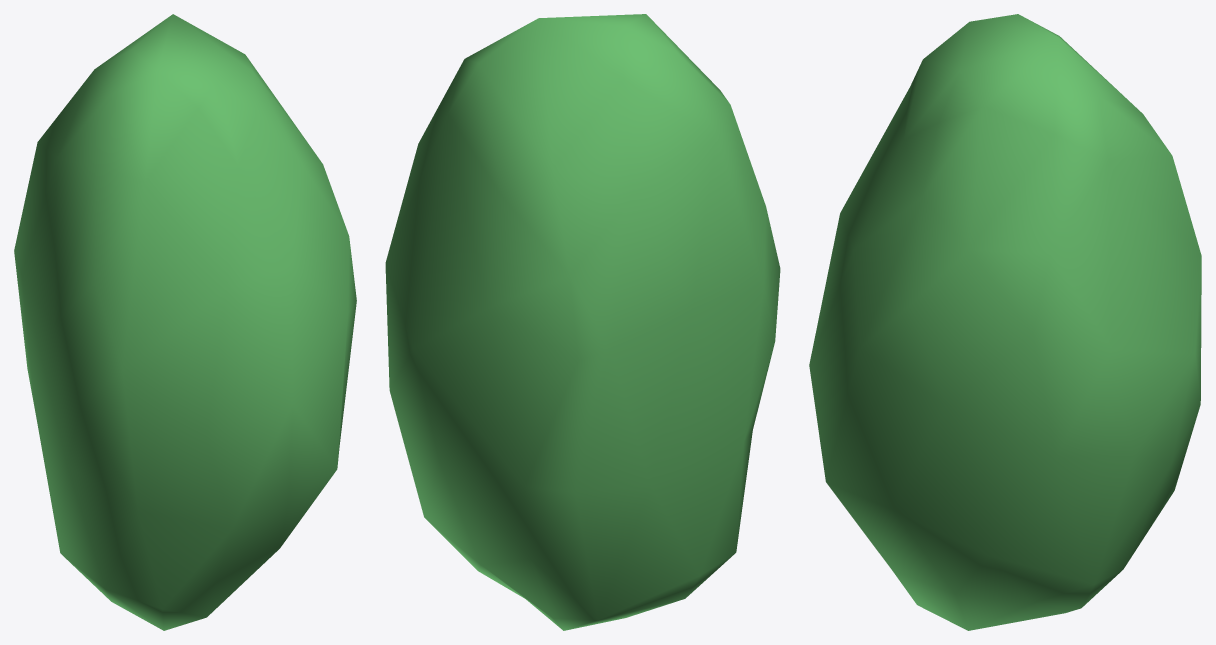
The model's file is plant_001.fbx.
The picture shows the model from 3 angles, left to right: view 1: azimuth 30°, elevation 25°; view 2: azimuth 150°, elevation 25°; view 3: azimuth 270°, elevation 25°; orthographic projection. The views are drawn at different scales.
Parts seen in each view (by area): view 1: plant_001; view 2: plant_001; view 3: plant_001.
Part boxes in pixels (bbox=[...]): plant_001: bbox=[14, 14, 356, 630]; plant_001: bbox=[385, 14, 780, 630]; plant_001: bbox=[809, 14, 1201, 630].
Size of the model in its own units: 391 by 416 by 701.
